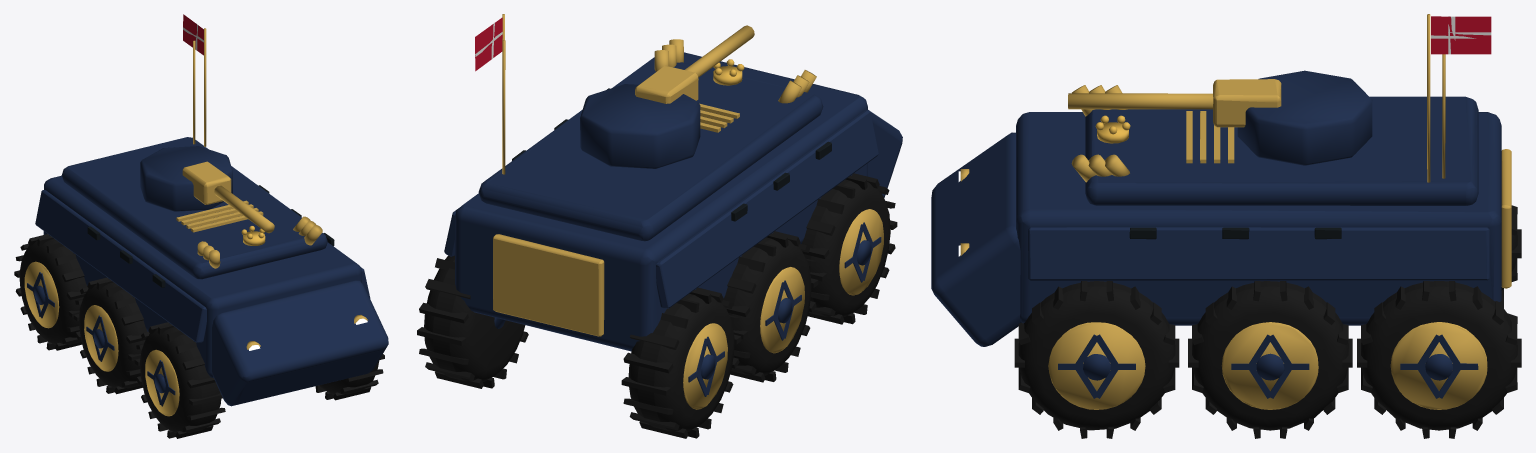
The model's file is apc_kbh.glb.
The picture shows the model from 3 angles, left to right: view 1: azimuth 30°, elevation 25°; view 2: azimuth 150°, elevation 25°; view 3: azimuth 270°, elevation 25°; orthographic projection. The views are drawn at different scales.
Parts seen in each view (by area): view 1: krop_net; view 2: krop_net; view 3: krop_net.
Boxes of the visible parts, bbox=[...] form: krop_net: bbox=[14, 14, 388, 438]; krop_net: bbox=[417, 14, 902, 438]; krop_net: bbox=[931, 14, 1521, 438].
Bounding box in the file's own units: 1.21 × 1.63 × 2.17.
